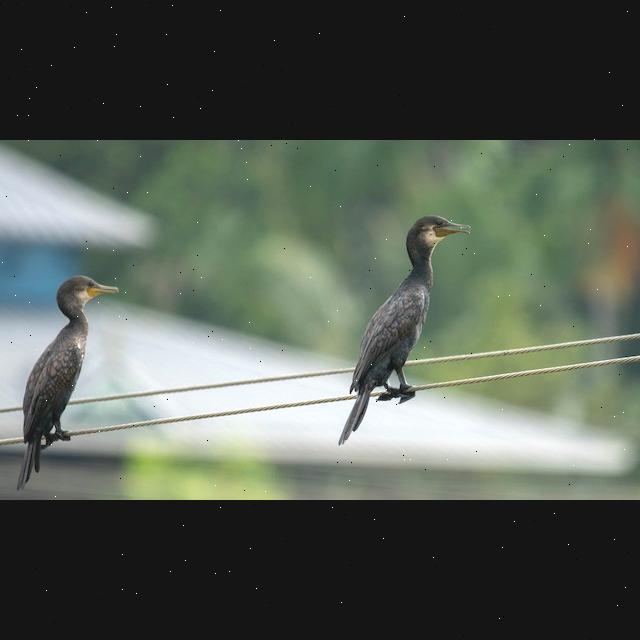cormorant: (331, 210, 475, 450), (11, 270, 128, 494)
